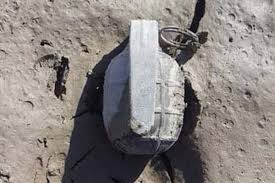e1: (103, 20, 198, 157)
